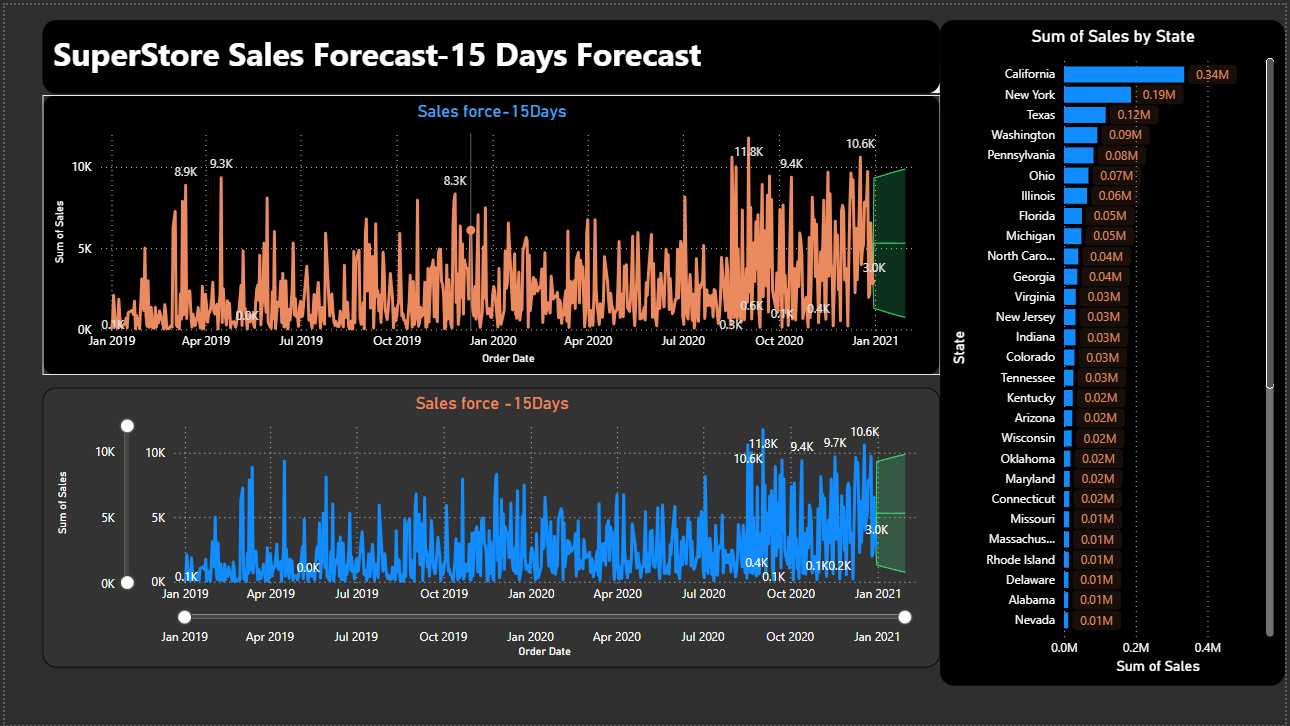

What the dashboard file says about the page in this screenshot:
{"tool":"powerbi","page":{"name":"Page 2","canvas":[1280,720],"ordinal":1},"visuals":[{"type":"lineChart","title":"      Sales force-15Days","fields":{"Y":["Sum(SuperStore_Sales_Dataset.Sales)"],"Category":["SuperStore_Sales_Dataset.Order Date"]},"box":[37.9,90.5,897.6,280],"z":0},{"type":"lineChart","title":"Sales force -15Days","fields":{"Y":["Sum(SuperStore_Sales_Dataset.Sales)"],"Category":["SuperStore_Sales_Dataset.Order Date"]},"box":[37.9,382.7,897.6,280],"z":1000},{"type":"barChart","fields":{"Y":["Sum(SuperStore_Sales_Dataset.Sales)"],"Category":["SuperStore_Sales_Dataset.State"]},"box":[935.5,14.7,344.8,665.2],"z":2000},{"type":"textbox","box":[37.9,14.7,897.6,73.4],"z":3000}]}

Visuals, with their boxes in screenshot pixels (x1, y1, x2, y2), scaled from the page's 1280x720 canvas onto the 1290x726 screenshot:
"      Sales force-15Days" lineChart: x1=38 y1=91 x2=943 y2=374
"Sales force -15Days" lineChart: x1=38 y1=386 x2=943 y2=668
barChart - Sum(SuperStore_Sales_Dataset.Sales) x SuperStore_Sales_Dataset.State: x1=943 y1=15 x2=1289 y2=686
textbox: x1=38 y1=15 x2=943 y2=89
